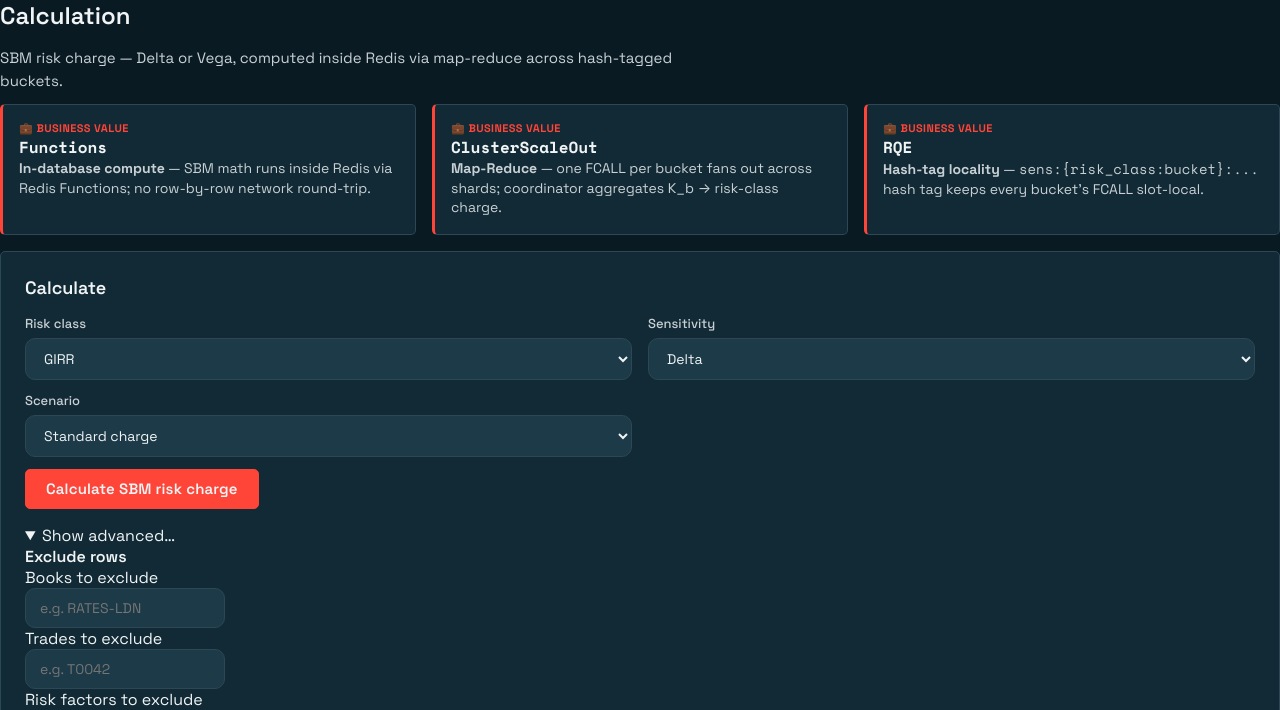
Test: Show Redis commands toggle › ?demo=1 URL param auto-enables the toggle on first load (and writes to localStorage)
Click the button "Calculate SBM risk charge" at (142, 489), box [25,469,259,509]
(page scrolled)
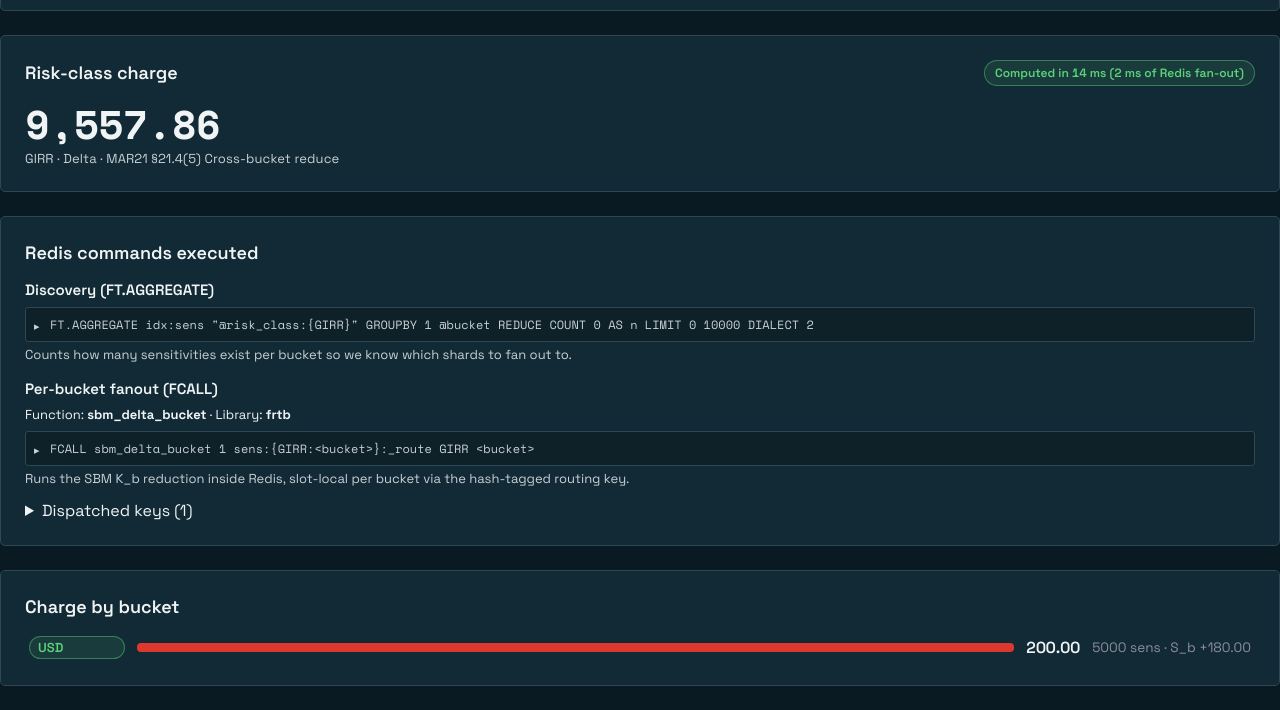
Expected: the element with test id "redis-commands" is shown, [25,280,1255,521]
